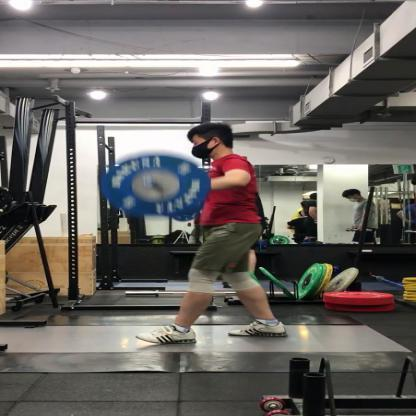barbell: (100, 151, 210, 220)
